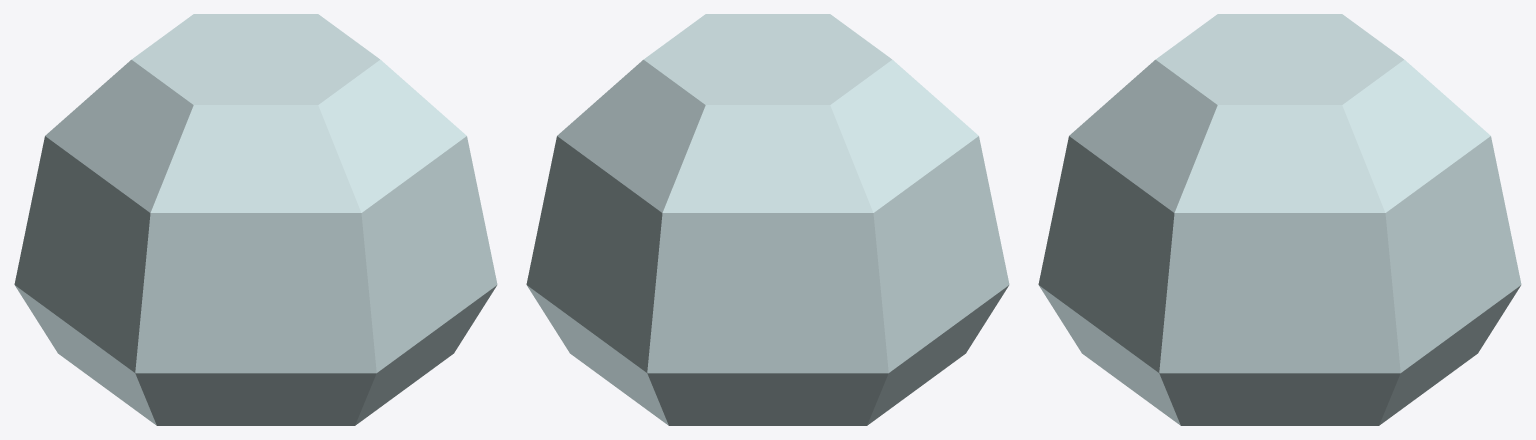
File: stone_small9.glb
The picture shows the model from 3 angles, left to right: view 1: azimuth 30°, elevation 25°; view 2: azimuth 150°, elevation 25°; view 3: azimuth 270°, elevation 25°; orthographic projection.
Visible parts, largest first — view 1: stone_small9; view 2: stone_small9; view 3: stone_small9.
Part boxes in pixels (x1,y1,x2,y2): stone_small9: (14, 14, 497, 425); stone_small9: (526, 14, 1009, 425); stone_small9: (1038, 14, 1521, 425).
Bounding box in the file's own units: 0.3583 × 0.2778 × 0.4138.
